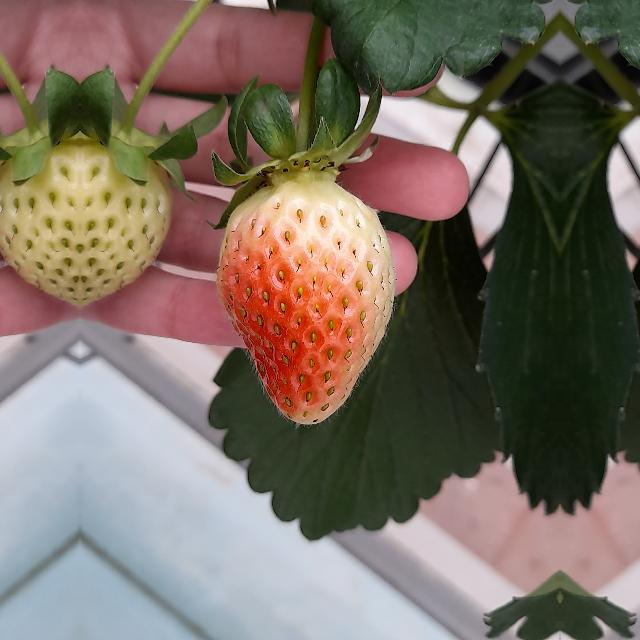Health_25: (80, 127, 184, 317), (0, 127, 80, 317)
Health_75: (216, 180, 394, 424)
